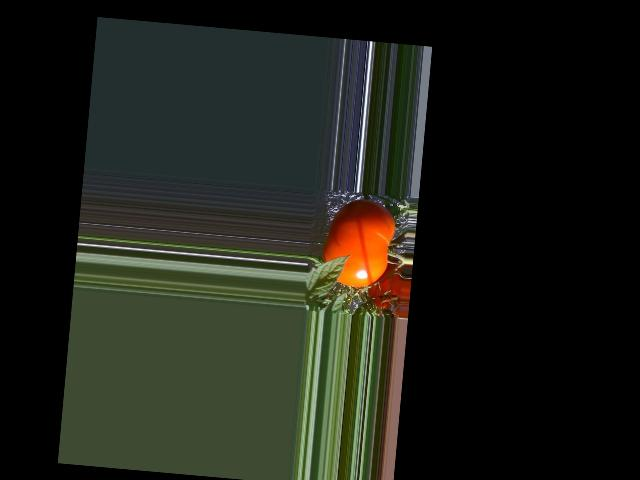tomato: (320, 196, 397, 290)
